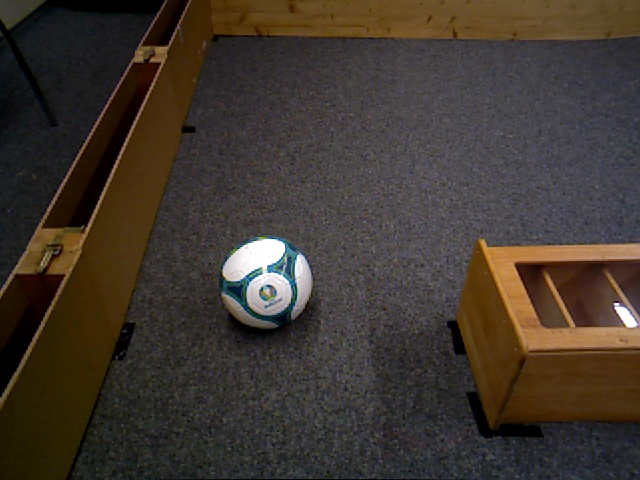kick: (220, 237, 314, 333)
